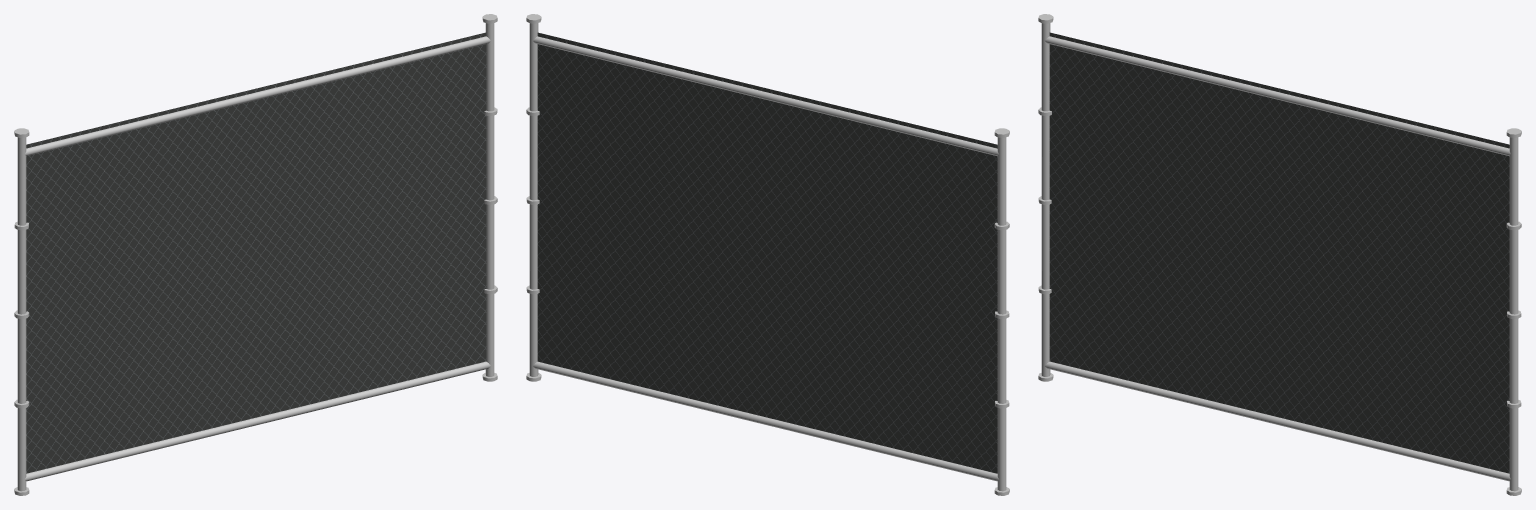
The model's file is Fence_MetalChainlink_3x.FBX.
The picture shows the model from 3 angles, left to right: view 1: azimuth 30°, elevation 25°; view 2: azimuth 150°, elevation 25°; view 3: azimuth 330°, elevation 25°; orthographic projection.
Parts seen in each view (by area): view 1: Fence_MetalChainlink_3x; view 2: Fence_MetalChainlink_3x; view 3: Fence_MetalChainlink_3x.
Part boxes in pixels (x1=…): Fence_MetalChainlink_3x: x1=14, y1=14, x2=497, y2=495; Fence_MetalChainlink_3x: x1=526, y1=14, x2=1009, y2=495; Fence_MetalChainlink_3x: x1=1038, y1=14, x2=1521, y2=495.
Size of the model in its own units: 308 by 221 by 8.62.
